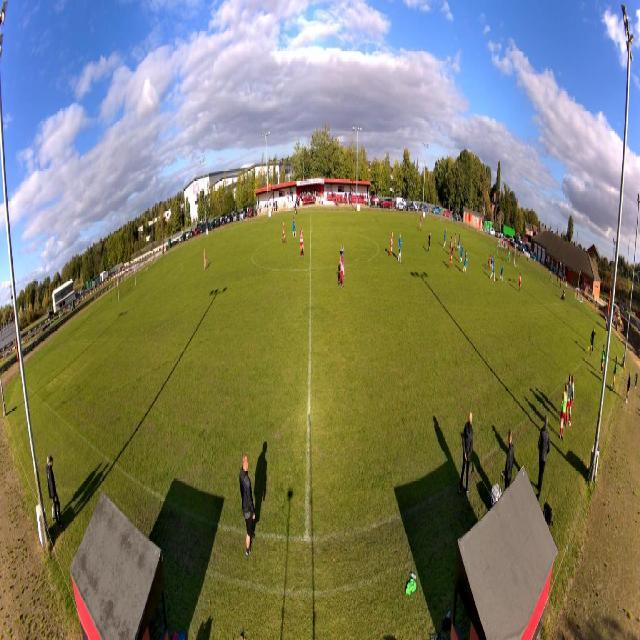ball: (506, 279, 507, 283)
player: (337, 249, 345, 290), (341, 242, 346, 279), (462, 249, 468, 276), (388, 231, 394, 257), (300, 228, 305, 259), (398, 233, 403, 262), (281, 221, 287, 245), (448, 245, 454, 269), (490, 260, 496, 282), (499, 263, 505, 284), (489, 252, 495, 273), (427, 230, 432, 254), (443, 227, 447, 251), (487, 254, 492, 273), (460, 243, 464, 265), (203, 249, 207, 271), (293, 217, 297, 238), (518, 271, 522, 292), (449, 236, 453, 256), (457, 234, 461, 253), (418, 216, 422, 233), (507, 248, 511, 265), (454, 233, 457, 251)
